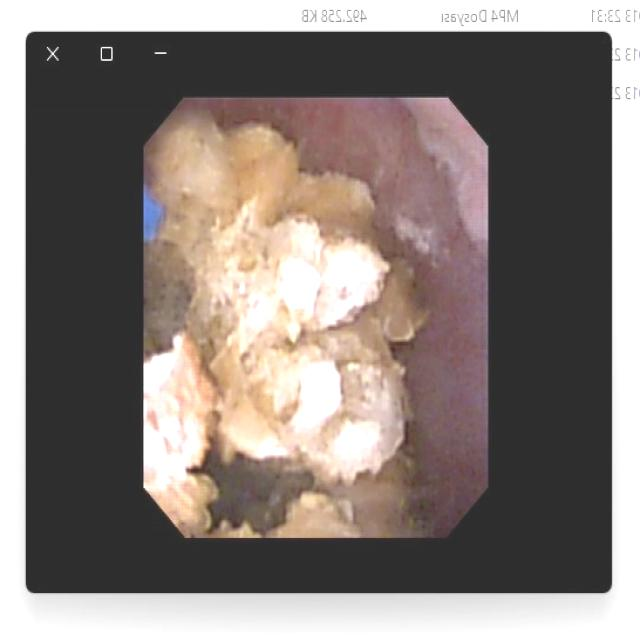stone: (147, 108, 426, 534), (148, 355, 252, 532)
